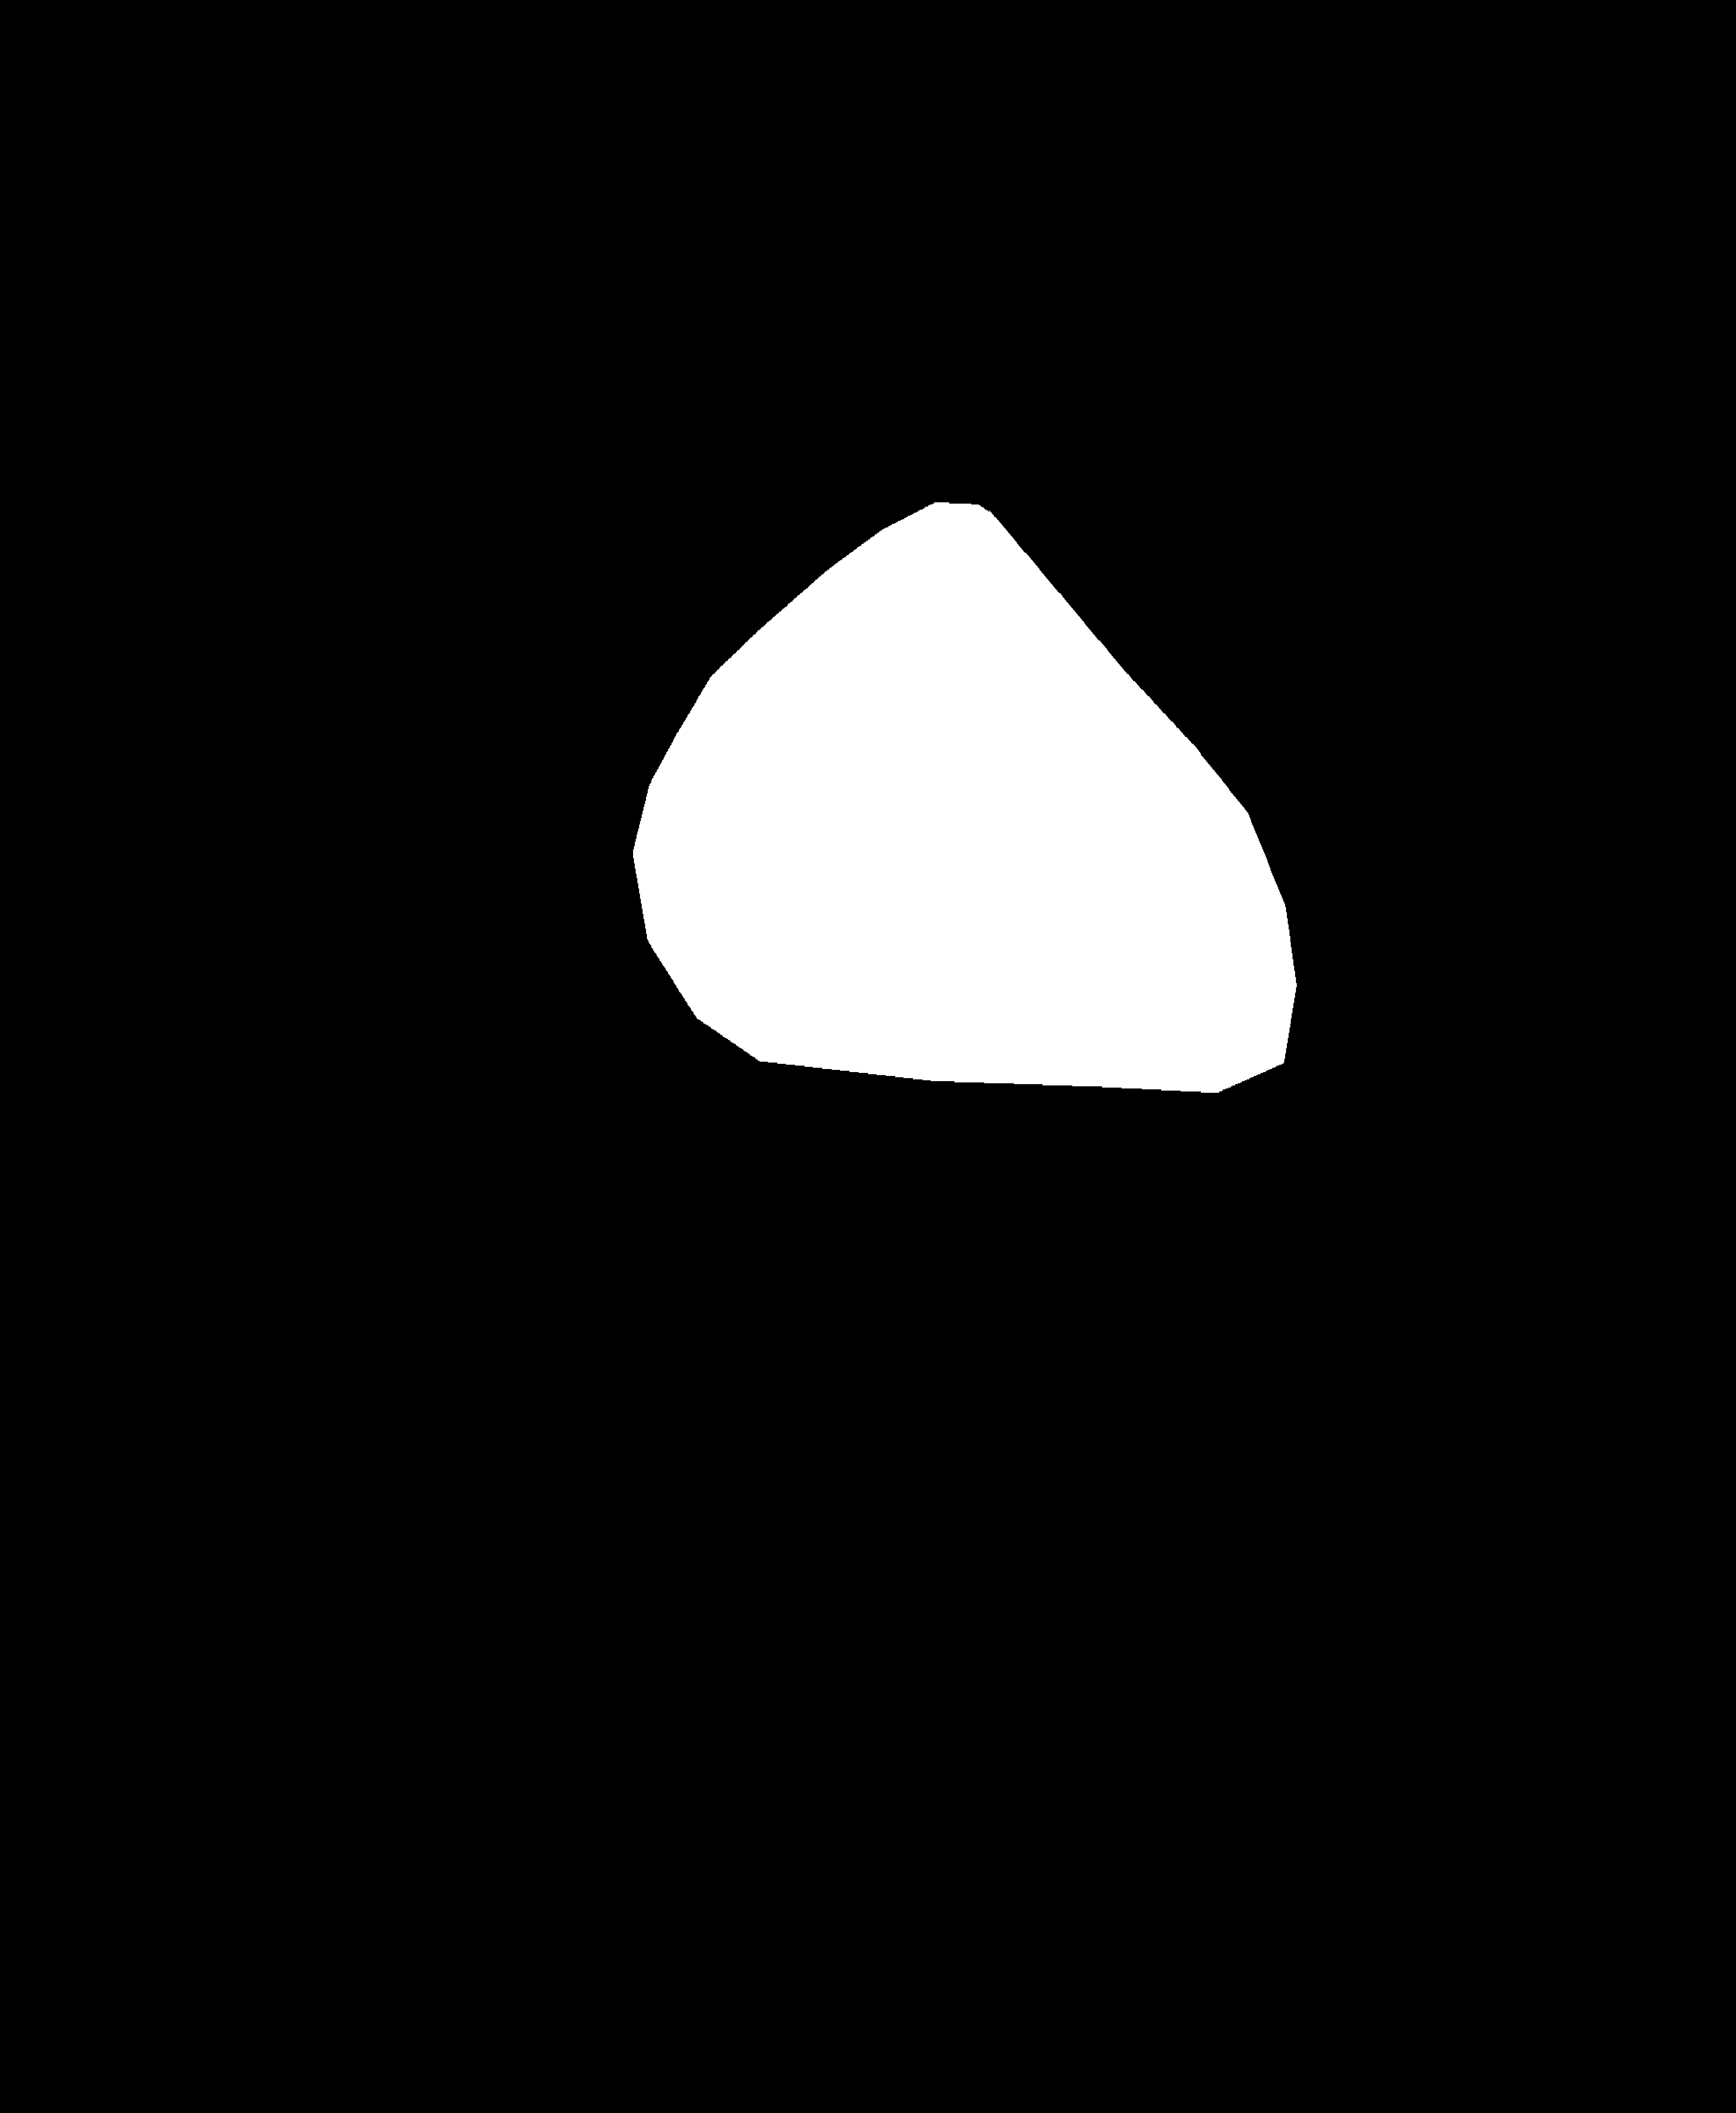heart: (639, 607, 1288, 1144)
left_lung: (216, 149, 800, 1185)
right_lung: (920, 130, 1541, 1195)
